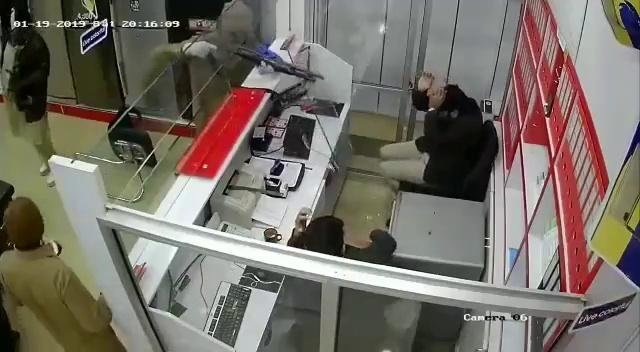weapon: (228, 44, 330, 89)
